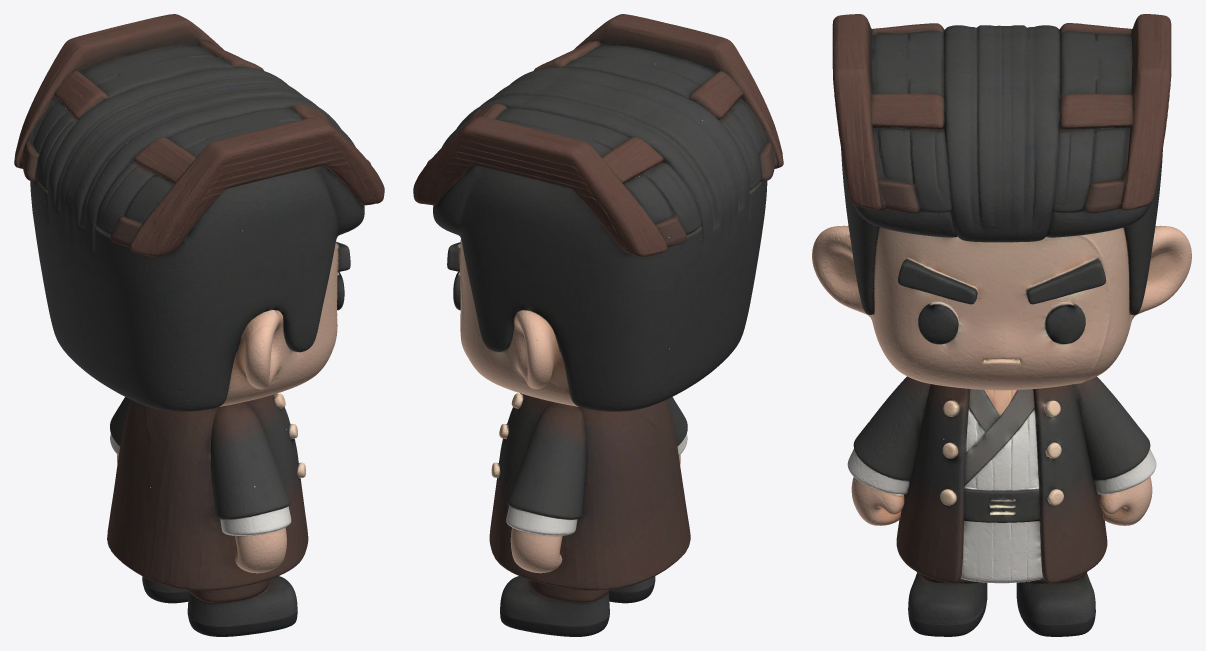
The picture shows the model from 3 angles, left to right: view 1: azimuth 30°, elevation 25°; view 2: azimuth 150°, elevation 25°; view 3: azimuth 270°, elevation 25°; orthographic projection. The views are drawn at different scales.
Parts seen in each view (by area): view 1: tripo_node_17554d26-8223-4a1a-b9a1-bcfa0cf4d9fc; view 2: tripo_node_17554d26-8223-4a1a-b9a1-bcfa0cf4d9fc; view 3: tripo_node_17554d26-8223-4a1a-b9a1-bcfa0cf4d9fc.
Boxes of the visible parts, x1=… form: tripo_node_17554d26-8223-4a1a-b9a1-bcfa0cf4d9fc: x1=14, y1=14, x2=384, y2=636; tripo_node_17554d26-8223-4a1a-b9a1-bcfa0cf4d9fc: x1=413, y1=14, x2=783, y2=636; tripo_node_17554d26-8223-4a1a-b9a1-bcfa0cf4d9fc: x1=812, y1=14, x2=1191, y2=636.
Size of the model in its own units: 0.5189 by 1 by 0.6103.
Materials: 1 (1 with a texture image).
